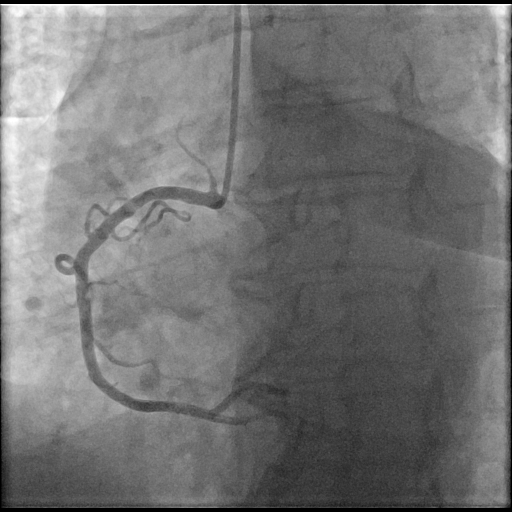RCA: (73, 186, 289, 424)
catherter: (213, 5, 241, 209)
